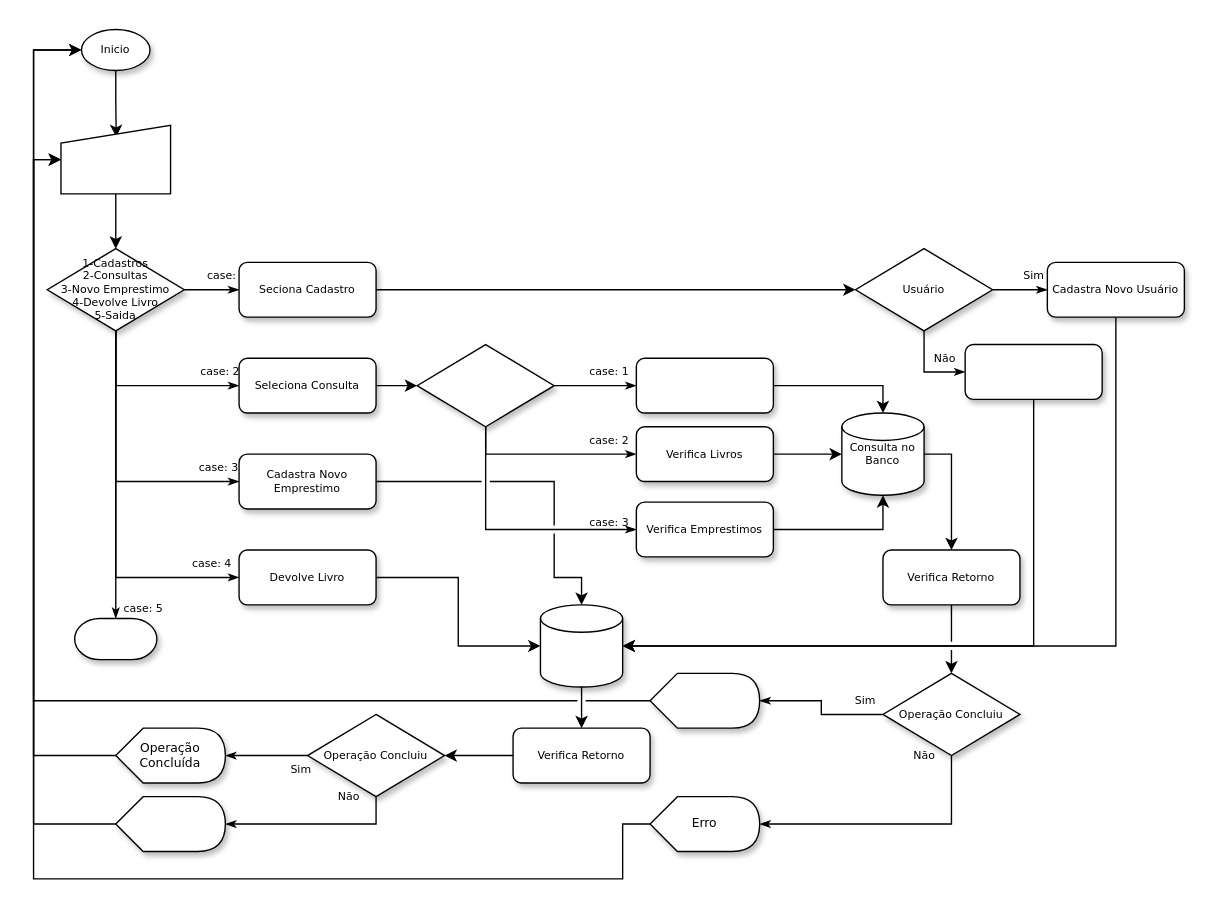
Image size: 1217x914. Some labels were removed from this diagram. Here are the shapes that lost their labels. From the top down, the centre of each, then its label:
point 115,159: Seleciona Opção
point 486,387: 1-Usuários 2-Livros 3-Empréstimos
point 706,387: Verifica Usuários
point 1034,373: Cadastra Novo Livro
point 116,640: Fim
point 582,647: Armazena no Banco
point 705,702: Apresenta Lista
point 171,825: Operação Não Concluída
